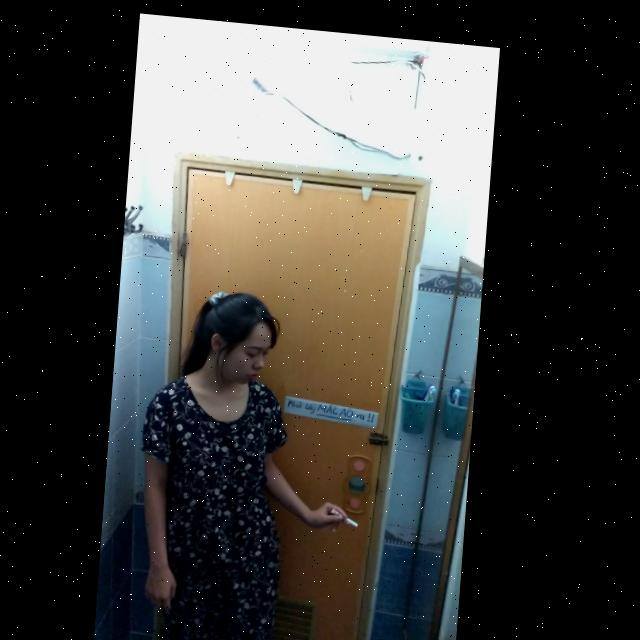cigarette: (337, 502, 366, 520)
